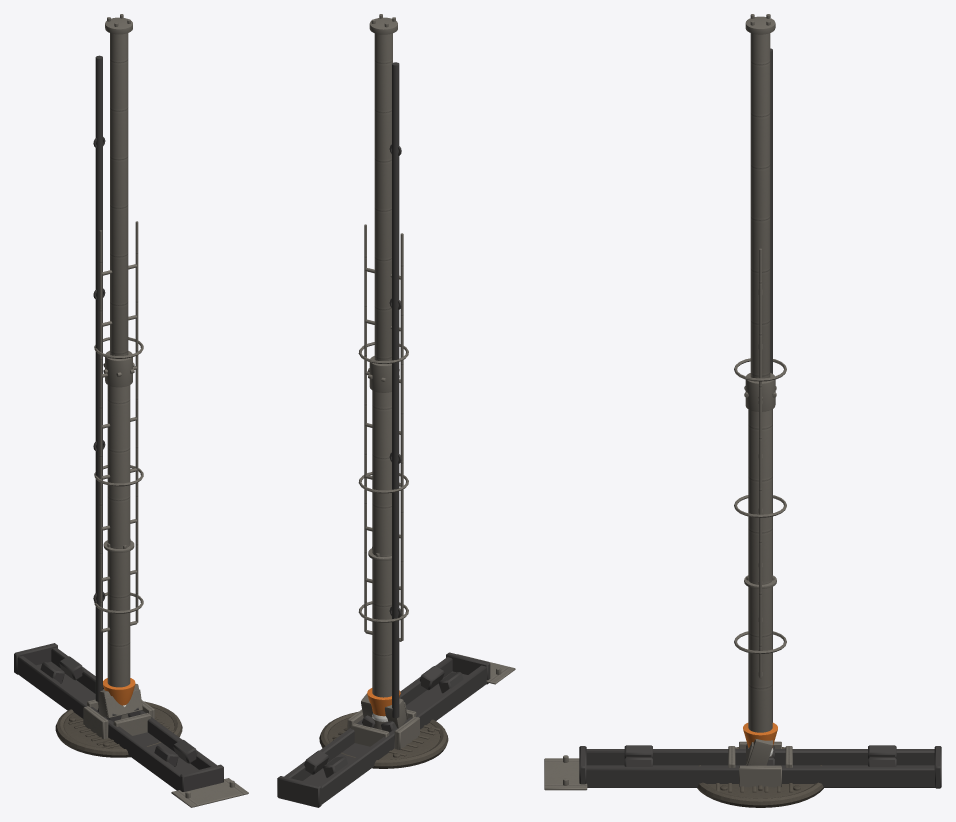
Rendered from site_kit.glb.
The picture shows the model from 3 angles, left to right: view 1: azimuth 30°, elevation 25°; view 2: azimuth 150°, elevation 25°; view 3: azimuth 270°, elevation 25°; orthographic projection. The views are drawn at different scales.
Parts seen in each view (by area): view 1: mast_tall.001, cradle.001, mast_conduit, mast_ladder, cover.001, cradle_guide, flood.001, cone_body; view 2: mast_tall.001, cradle.001, mast_conduit, mast_ladder, cover.001, flood.001; view 3: mast_tall.001, cradle.001, mast_ladder, cover.001, mast_conduit, cradle_guide.
Part boxes in pixels (bbox=[...]): mast_tall.001: bbox=[83, 14, 154, 739]; cradle.001: bbox=[14, 643, 223, 791]; mast_conduit: bbox=[93, 55, 105, 701]; mast_ladder: bbox=[94, 221, 143, 632]; cover.001: bbox=[55, 701, 182, 757]; cradle_guide: bbox=[171, 778, 248, 807]; flood.001: bbox=[97, 683, 142, 718]; cone_body: bbox=[103, 678, 135, 705]; mast_tall.001: bbox=[347, 14, 419, 749]; cradle.001: bbox=[277, 652, 490, 807]; mast_conduit: bbox=[389, 62, 401, 718]; mast_ladder: bbox=[358, 224, 408, 641]; cover.001: bbox=[319, 711, 448, 768]; flood.001: bbox=[361, 693, 407, 728]; mast_tall.001: bbox=[728, 14, 792, 787]; cradle.001: bbox=[579, 745, 941, 788]; mast_ladder: bbox=[734, 248, 786, 678]; cover.001: bbox=[697, 747, 823, 807]; mast_conduit: bbox=[770, 48, 772, 722]; cradle_guide: bbox=[544, 755, 587, 790].
Bounding box in the file's own units: 0.95 × 5.88 × 2.78.
Materials: 5 (2 with a texture image).
